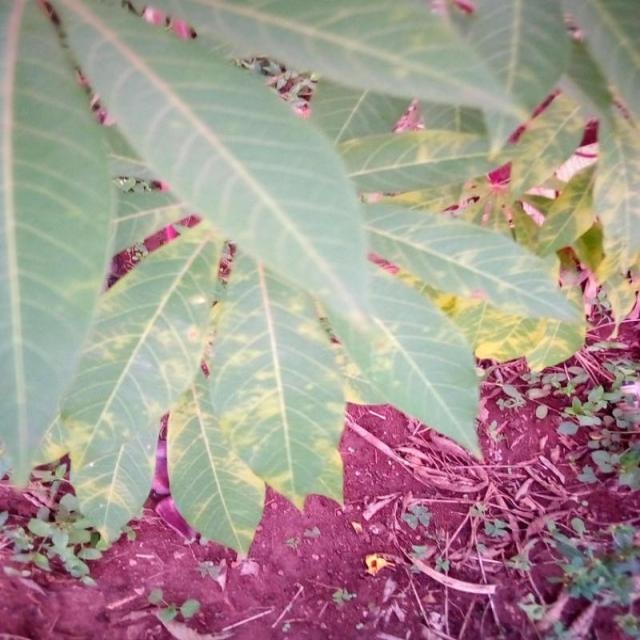cassava leaf: (2, 0, 636, 560)
